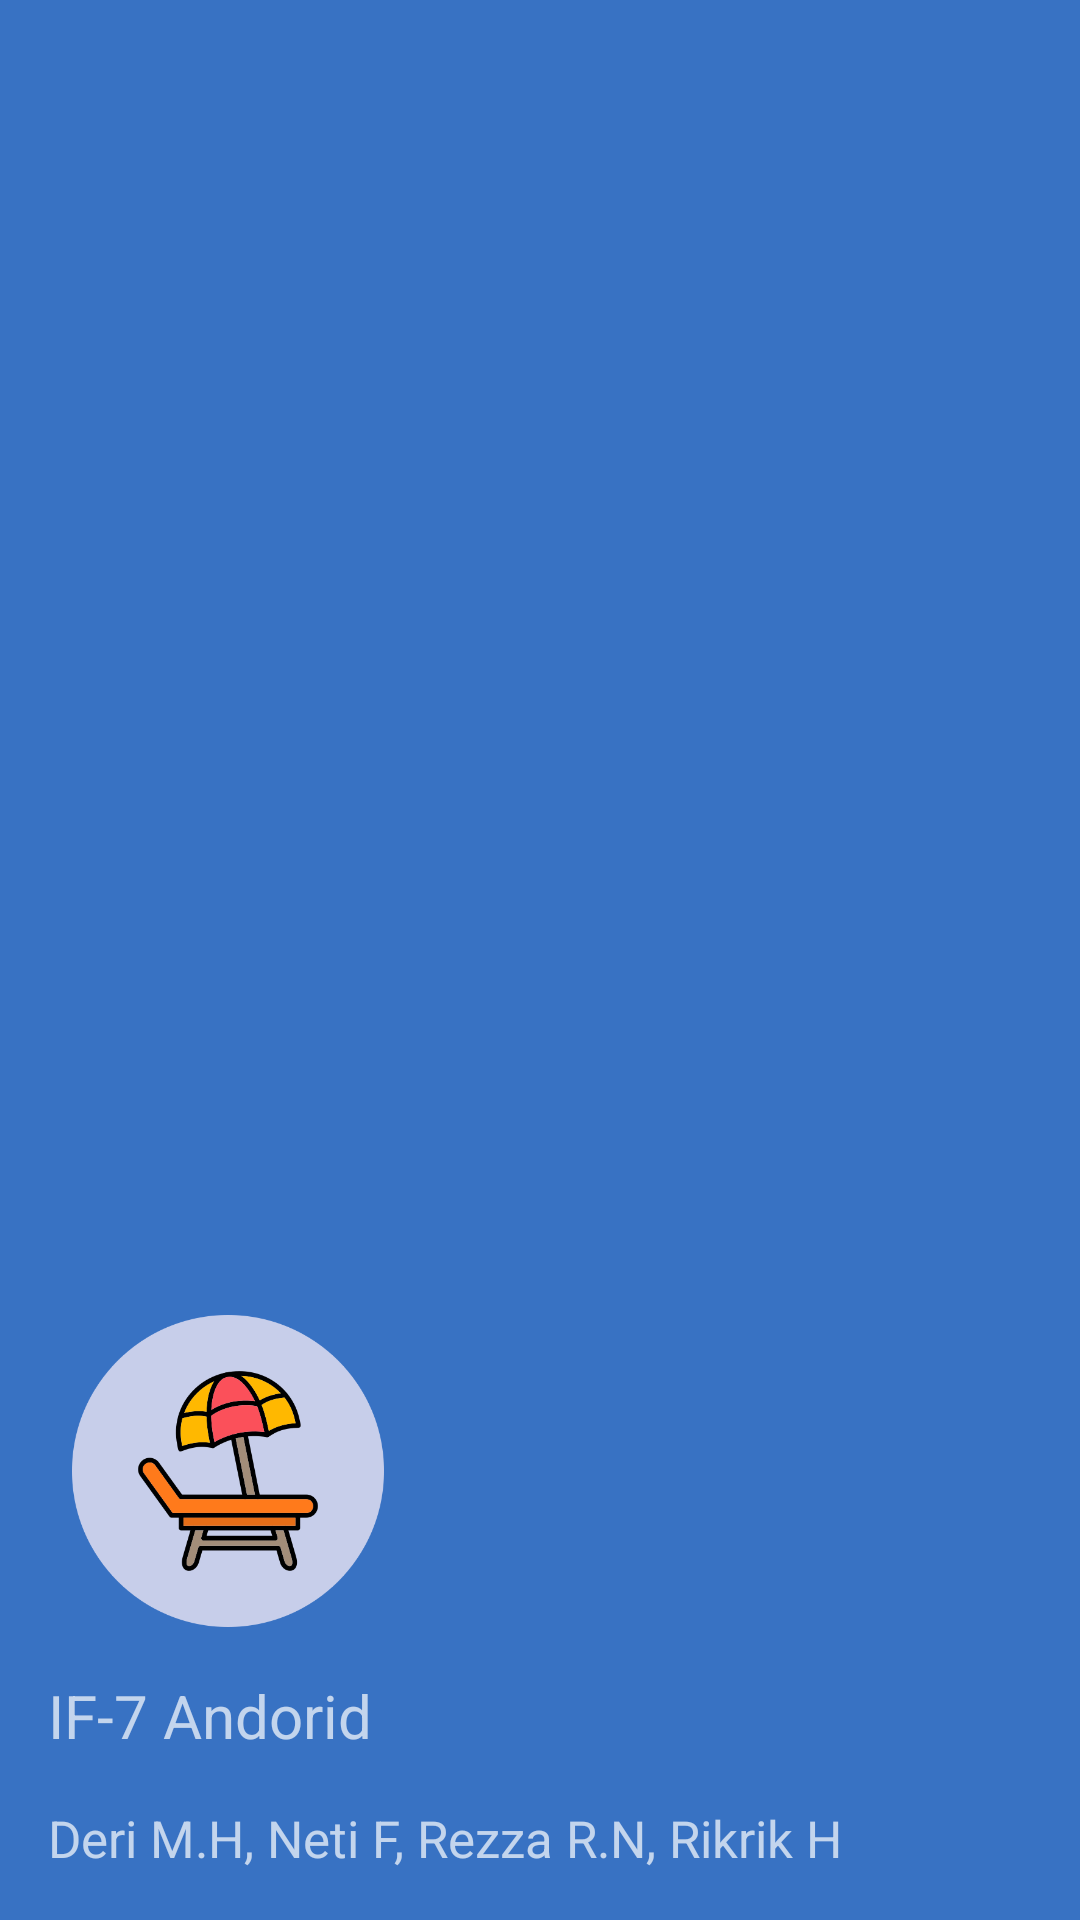

Point at icon controls on the screen. Image size 1080px x 1920px, points as (x,y).
beach chair: (228,1471)
